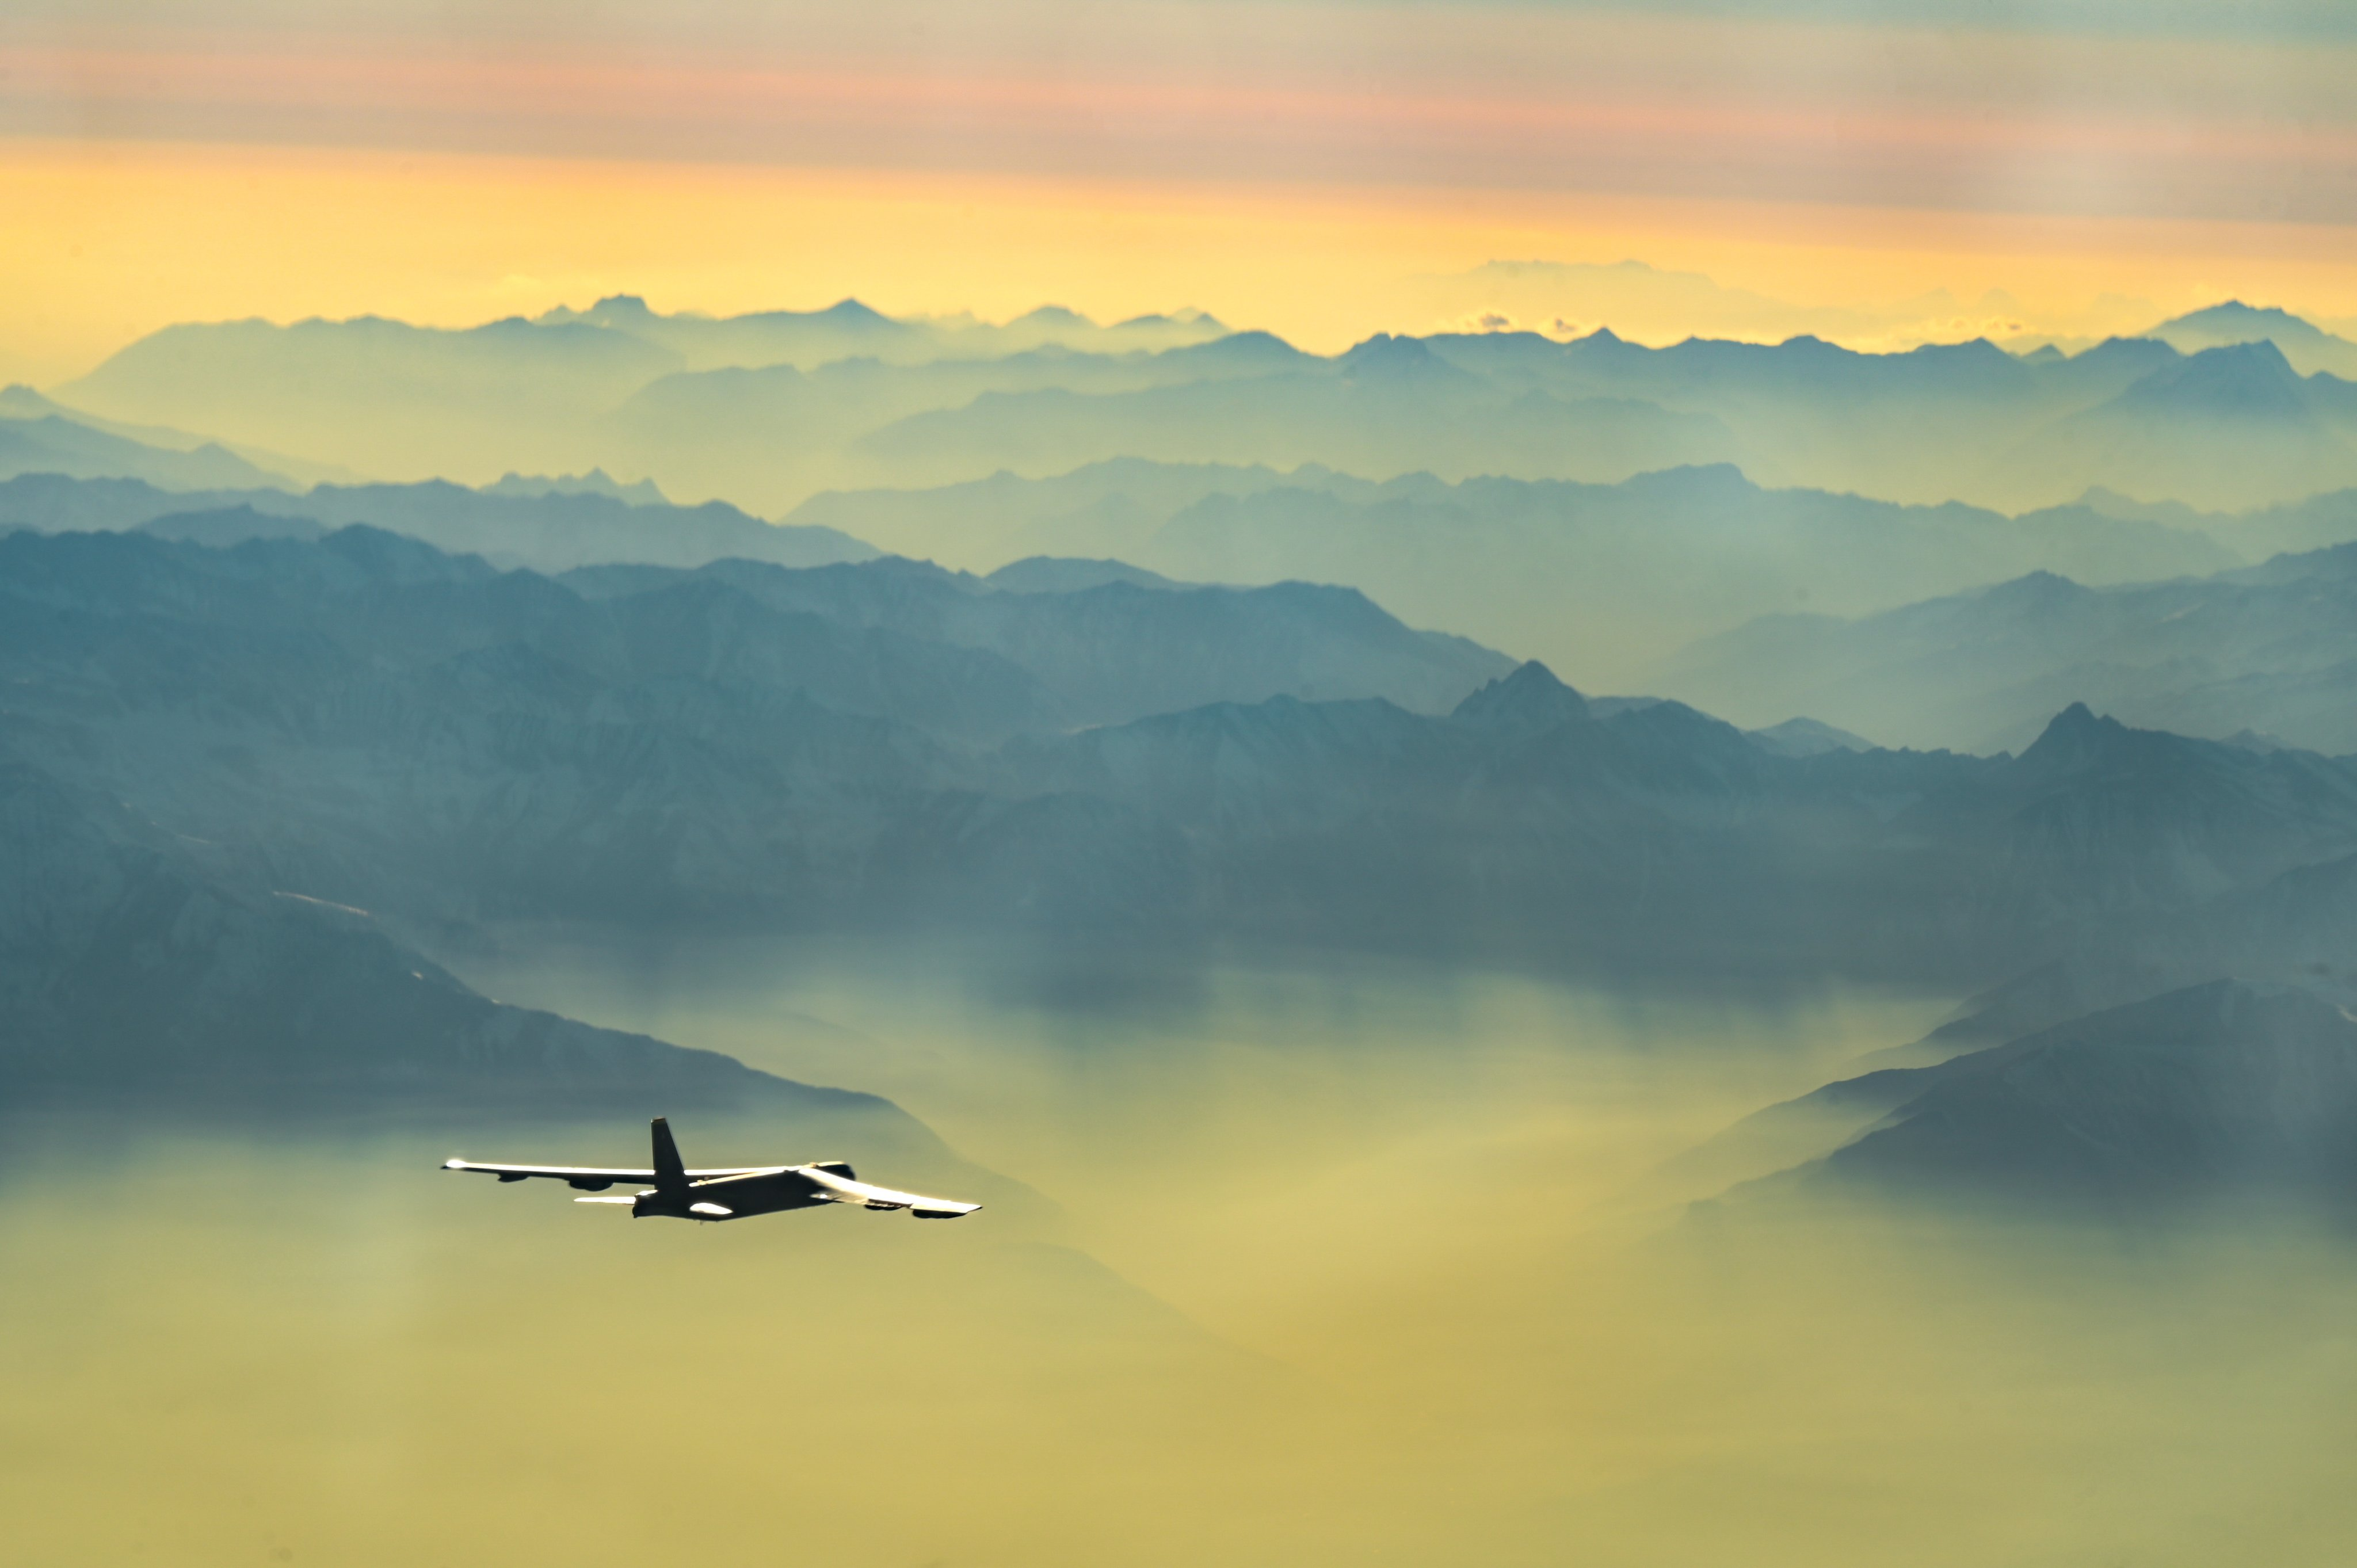B52: (439, 1116, 983, 1225)
